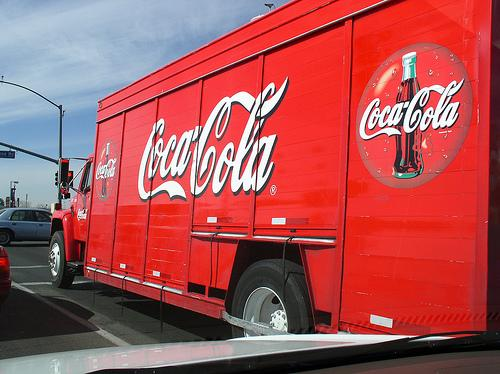truck: (47, 0, 500, 347)
